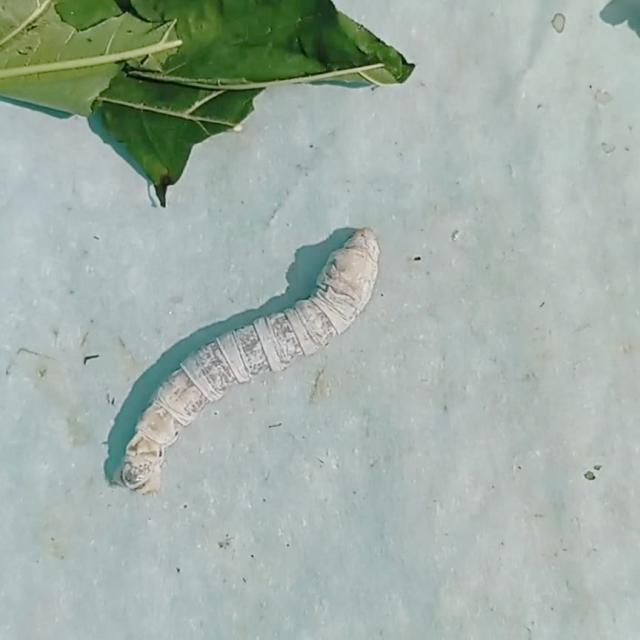Grasserie: (92, 208, 436, 515)
